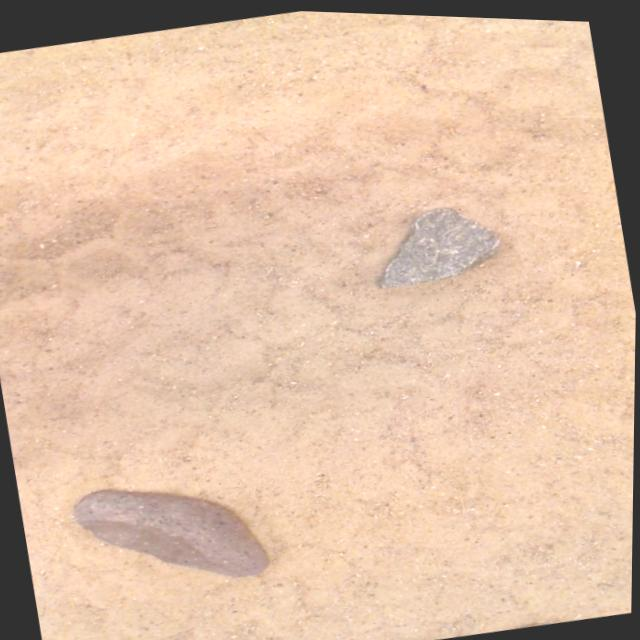rock: (76, 488, 270, 573), (381, 203, 500, 283)
